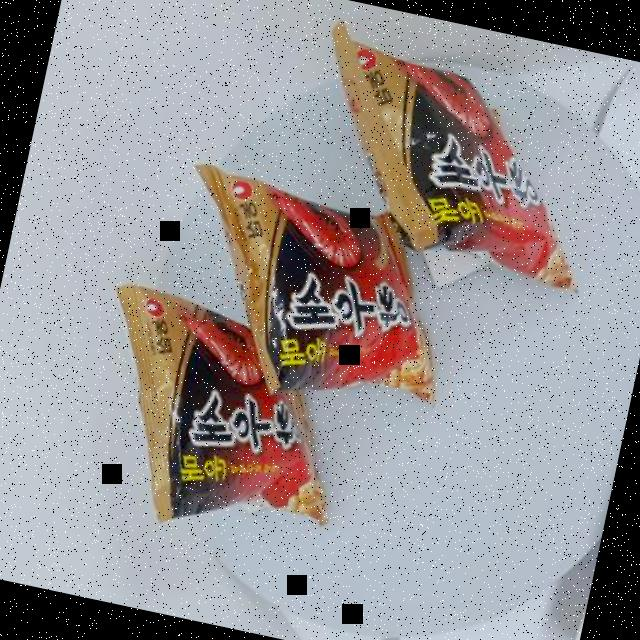snack_bag: (60, 0, 632, 605)
